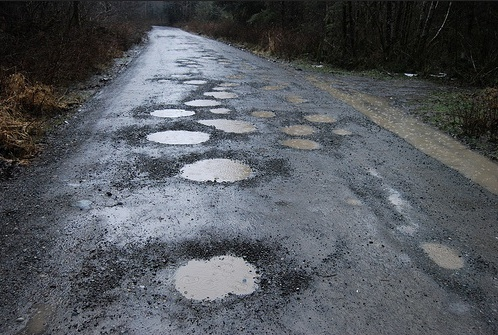pothole: (163, 244, 265, 310), (168, 151, 262, 184), (420, 236, 475, 271), (201, 115, 259, 138), (146, 129, 209, 145), (143, 105, 194, 118), (280, 135, 321, 150), (243, 106, 279, 120), (280, 123, 320, 134), (180, 97, 221, 107), (279, 92, 307, 106), (200, 90, 238, 99), (207, 103, 232, 116), (301, 113, 340, 121), (179, 77, 208, 87), (329, 127, 357, 137), (222, 71, 248, 81), (177, 63, 208, 69), (167, 70, 189, 78), (251, 70, 270, 78), (261, 85, 285, 91), (219, 58, 231, 66), (212, 85, 230, 90), (146, 78, 171, 81), (179, 59, 199, 62)
